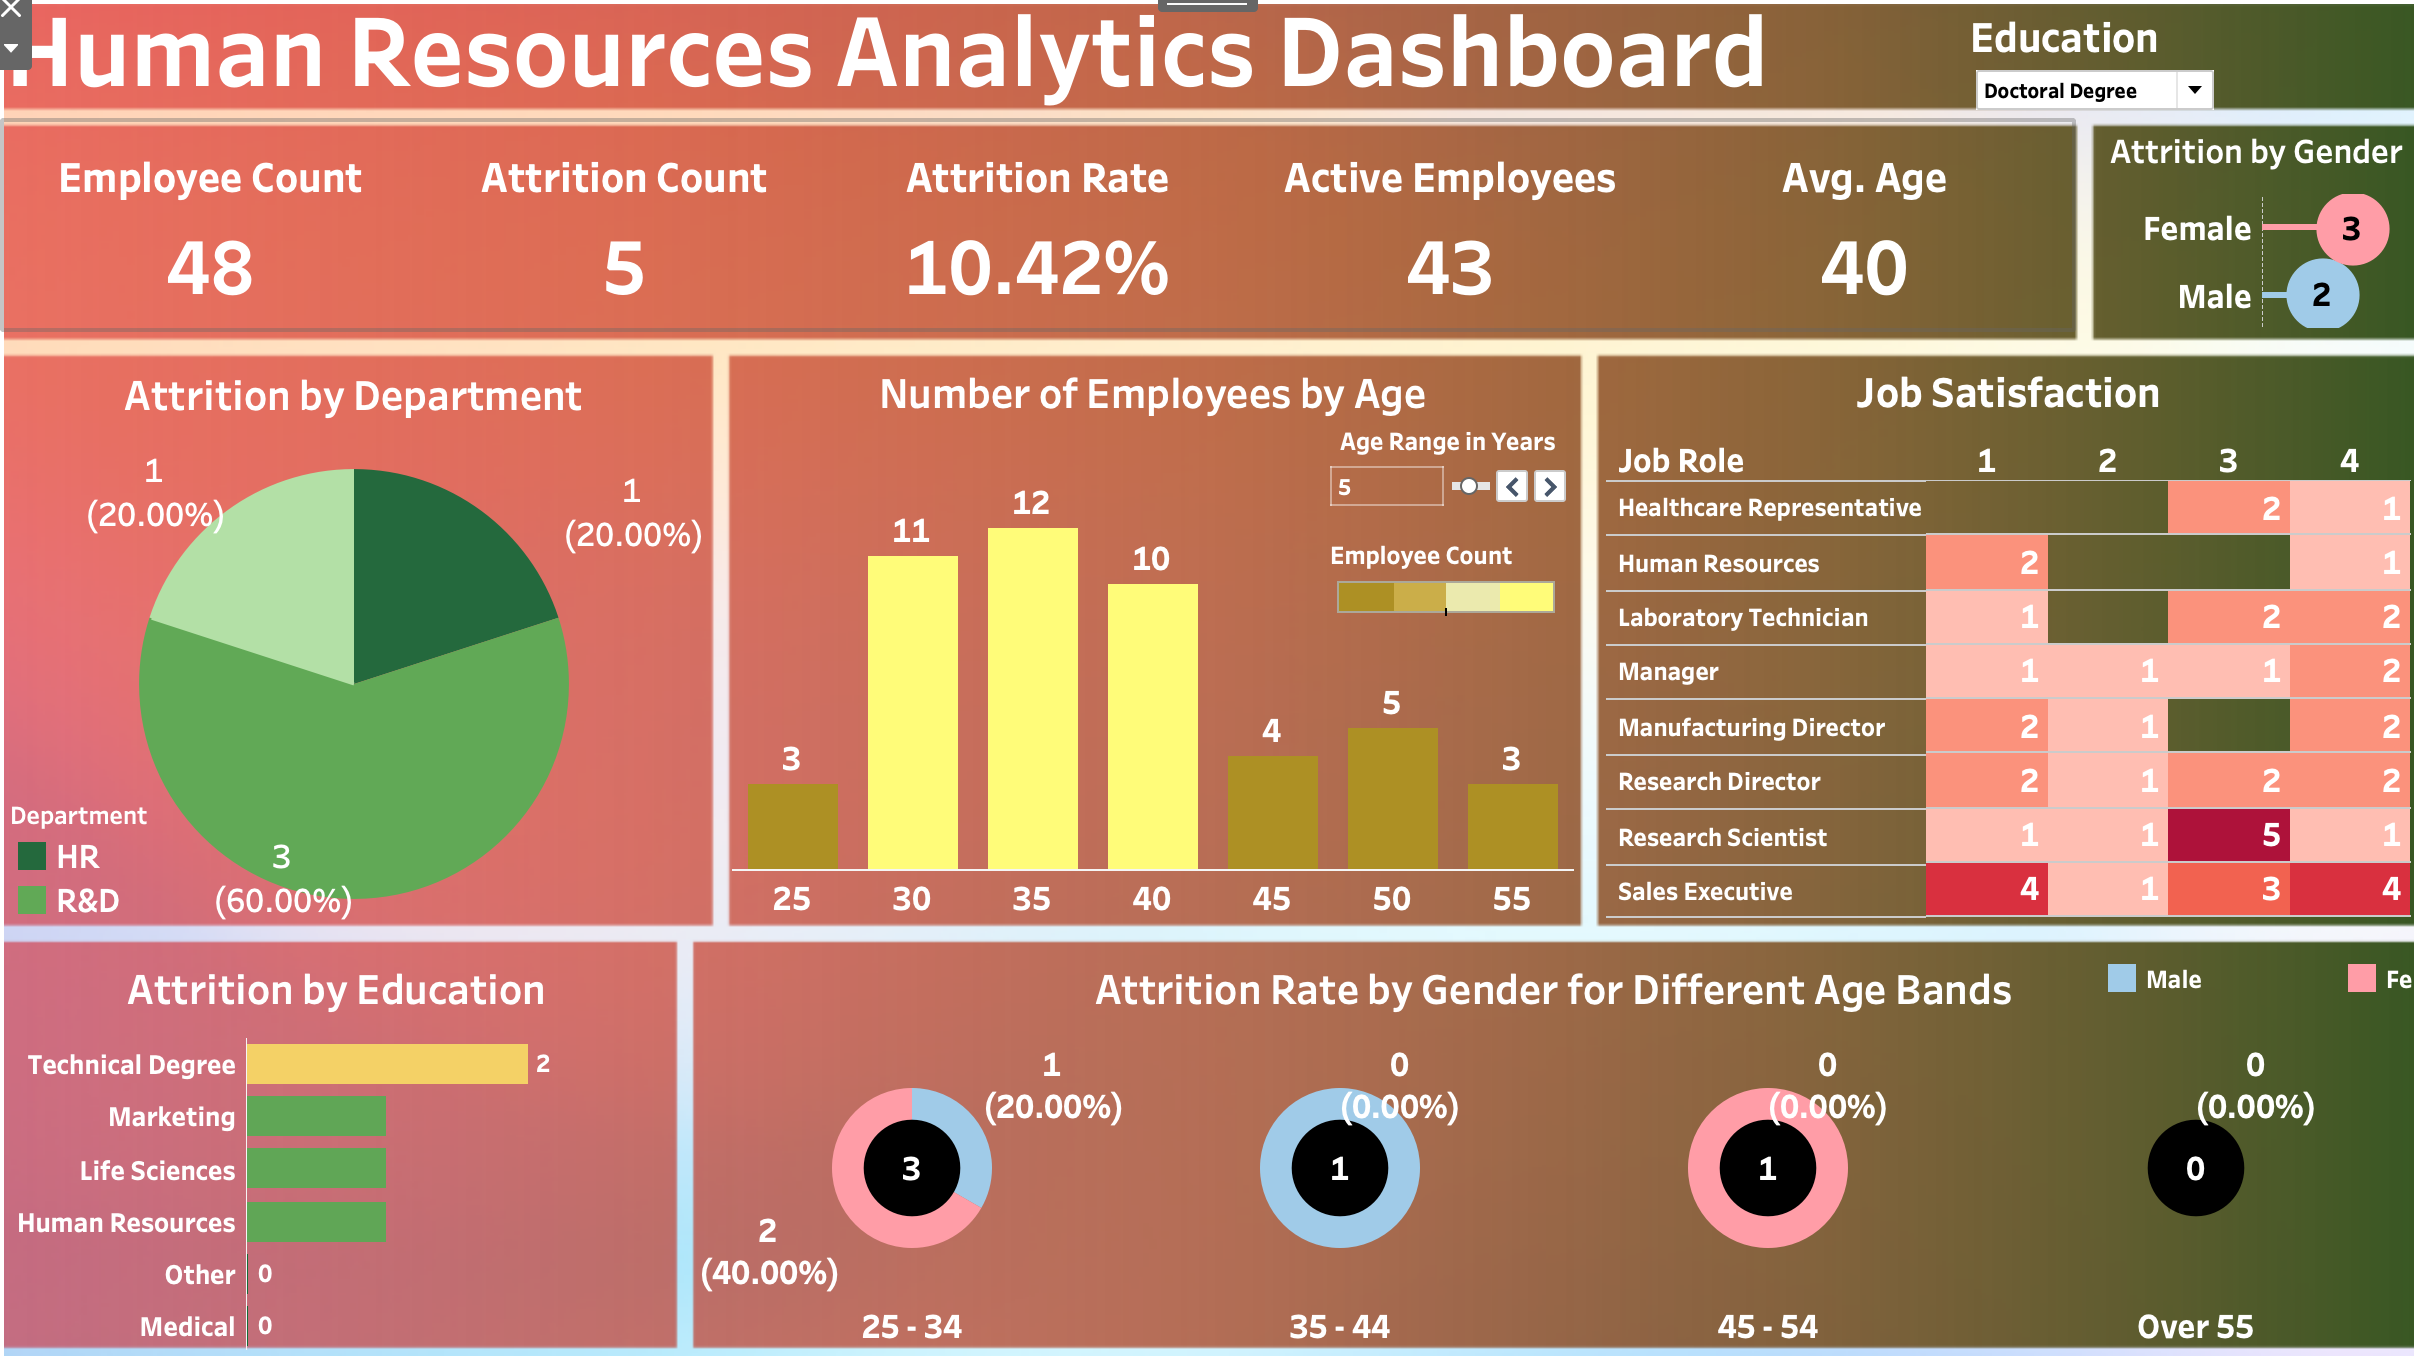

This screenshot's page, from the dashboard's own definition file:
{"tool":"tableau","page":{"name":"Human Resources Dashboard","canvas":[1580,900],"ordinal":0},"visuals":[{"type":"image","param":"/Users/chrisgaruba/Documents/PROJECTS/ORIGINAL PROJECT DATA/Data Analyst Portfol","box":[8,8,1564,884]},{"type":"text","box":[13,12,892,67]},{"type":"filter","title":"Attrition by Department","param":"[federated.16fzf2y1m25ecy1cqt7hm1aib45q].[none:Education:nk]","box":[1219,18,160,138]},{"type":"worksheet","title":"Attrition by Gender","mark":"Automatic","rows":["Gender"],"cols":["Calculation_1640436225959071744","Calculation_1640436225959071744"],"box":[1364,93,201,132]},{"type":"worksheet","title":"KPI","mark":"Automatic","box":[16,94,1329,131]},{"type":"worksheet","title":"Number of Employees by Age","mark":"Automatic","rows":["Employee Count"],"cols":["Age (bin)"],"box":[484,243,541,360]},{"type":"worksheet","title":"Job Satisfaction","mark":"Square","rows":["Job Role"],"cols":["Job Satisfaction"],"box":[1045,243,518,359]},{"type":"worksheet","title":"Attrition by Department","mark":"Pie","box":[14,244,453,360]},{"type":"parameter","param":"[Parameters].[Parameter 1]","box":[864,287,160,67]},{"type":"legend","title":"Number of Employees by Age","param":"[federated.16fzf2y1m25ecy1cqt7hm1aib45q].[sum:Employee Count:qk]","box":[868,359,150,52]},{"type":"legend","title":"Attrition by Department","param":"[federated.16fzf2y1m25ecy1cqt7hm1aib45q].[none:Department:nk]","box":[19,525,140,78]},{"type":"worksheet","title":"Attrition by Education","mark":"Automatic","rows":["Education Field"],"cols":["Calculation_1640436225959071744"],"box":[17,622,425,254]},{"type":"worksheet","title":"Attrition Rate by Gender for Different Age Bands","mark":"Pie","rows":["Calculation_1640436226023108614","Calculation_1640436226023129096"],"cols":["CF_age band"],"box":[462,622,1101,253]}]}

Visuals, with their boxes in screenshot pixels (x1, y1, x2, y2), scaled from the page's 1580x900 canvas onto the 2418x1356 screenshot:
image: l=12, t=12, r=2406, b=1344
text: l=20, t=18, r=1385, b=119
"Attrition by Department" filter: l=1866, t=27, r=2110, b=235
"Attrition by Gender" worksheet: l=2087, t=140, r=2395, b=339
"KPI" worksheet: l=24, t=142, r=2058, b=339
"Number of Employees by Age" worksheet: l=741, t=366, r=1569, b=909
"Job Satisfaction" worksheet (Square marks): l=1599, t=366, r=2392, b=907
"Attrition by Department" worksheet (Pie marks): l=21, t=368, r=715, b=910
parameter: l=1322, t=432, r=1567, b=533
"Number of Employees by Age" legend: l=1328, t=541, r=1558, b=619
"Attrition by Department" legend: l=29, t=791, r=243, b=909
"Attrition by Education" worksheet: l=26, t=937, r=676, b=1320
"Attrition Rate by Gender for Different Age Bands" worksheet (Pie marks): l=707, t=937, r=2392, b=1318
